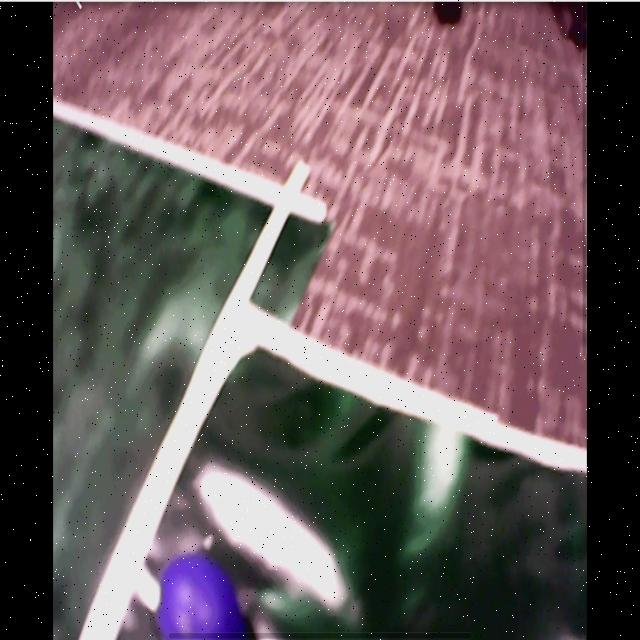ball: (157, 559, 244, 640)
